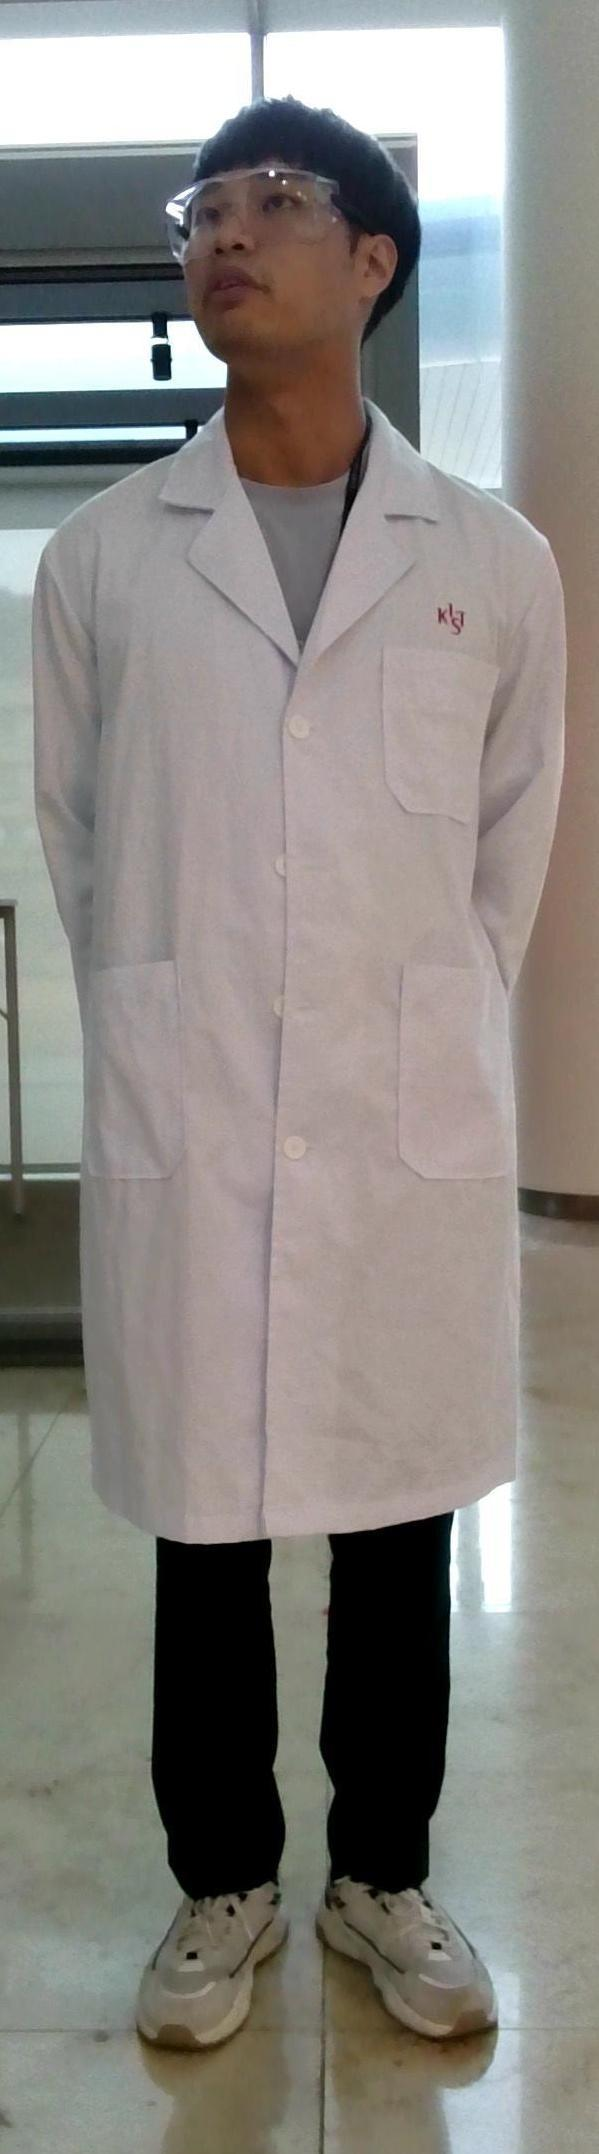lab_coat: (41, 451, 545, 1512)
